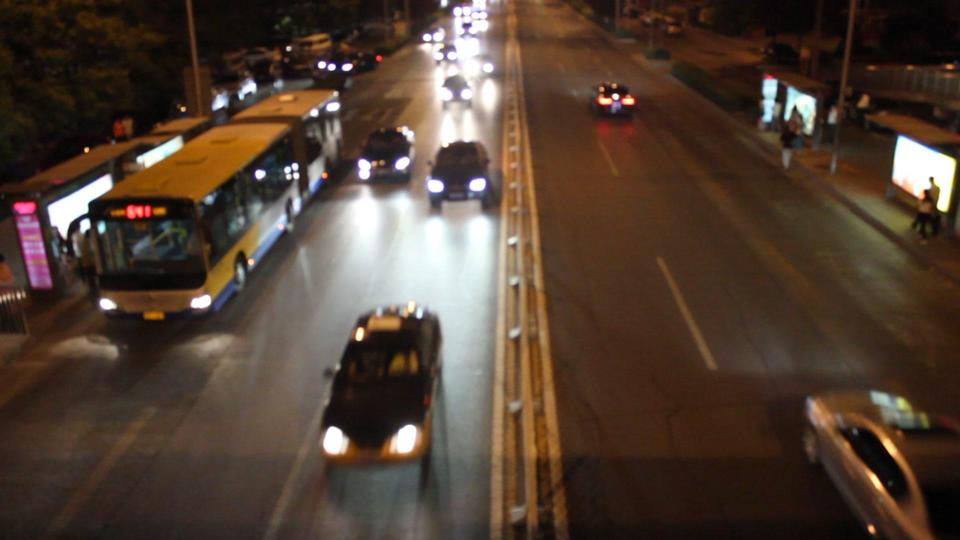bus: (66, 87, 341, 339)
car: (803, 382, 960, 540), (314, 301, 444, 463), (356, 124, 415, 182), (590, 78, 636, 120), (313, 57, 353, 94), (440, 74, 473, 110), (434, 43, 460, 66), (470, 54, 495, 77)
microbus: (290, 33, 333, 66)
suv: (425, 138, 503, 216)
